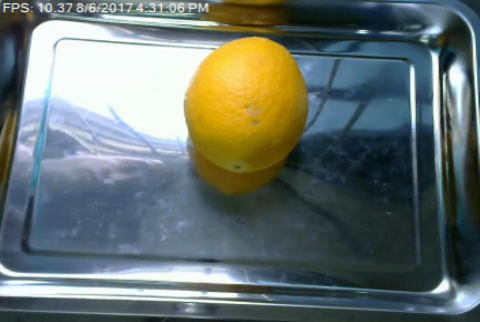Orange: (184, 36, 307, 173)
